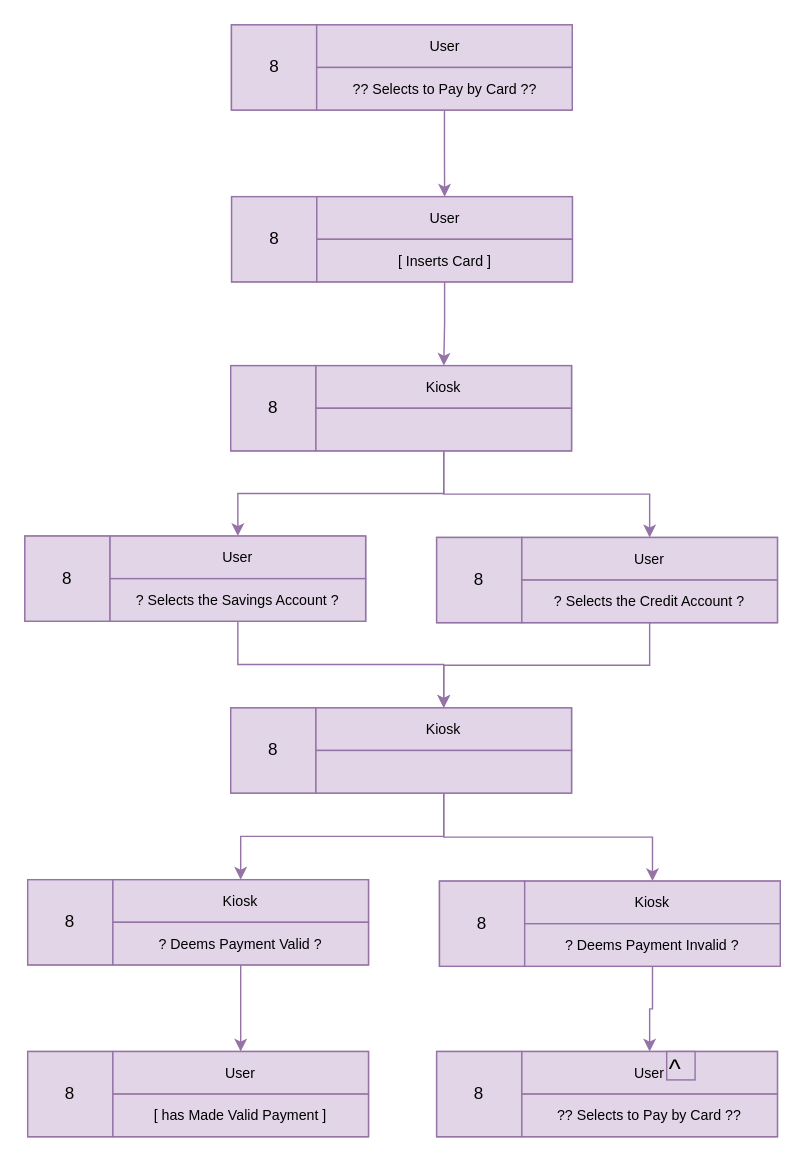
The diagram is 805 pixels wide and 1162 high, and some of its shapes have lost their labels. The shapes that lost their labels are listed below. From the top down, each one's centre as x and y in pixels, then its label:
At (x=443, y=429): "[ Prompts User to Choose Account ]".
At (x=443, y=771): "[ Process Payment ]".
